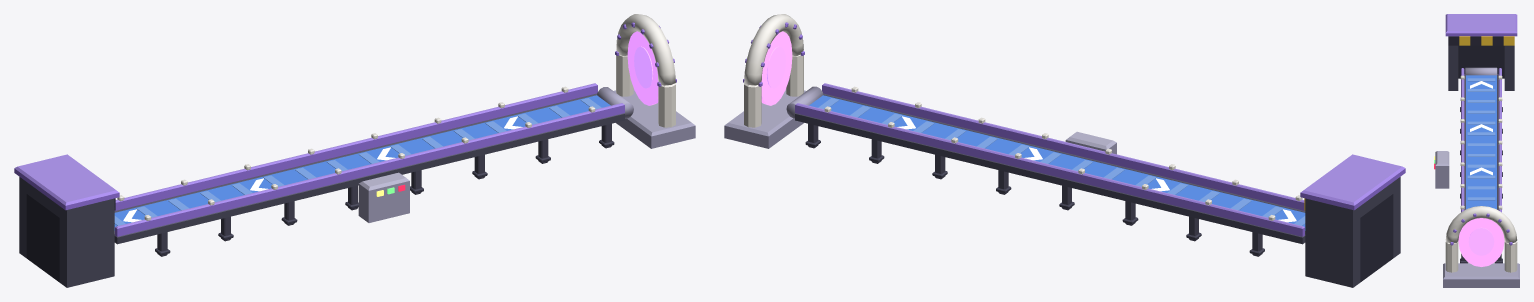
Rendered from Conveyor_5.glb.
The picture shows the model from 3 angles, left to right: view 1: azimuth 30°, elevation 25°; view 2: azimuth 150°, elevation 25°; view 3: azimuth 270°, elevation 25°; orthographic projection. The views are drawn at different scales.
Visible parts, largest first — view 1: Conveyor_5, Conveyor_5_Glow_portal, Conveyor_5_Glow_acc5, Conveyor_5_Glow_belt; view 2: Conveyor_5, Conveyor_5_Glow_portal, Conveyor_5_Glow_acc5, Conveyor_5_Glow_belt; view 3: Conveyor_5, Conveyor_5_Glow_portal, Conveyor_5_Glow_acc5, Conveyor_5_Glow_belt.
Part boxes in pixels (x1=…): Conveyor_5: x1=14, y1=14, x2=695, y2=287; Conveyor_5_Glow_portal: x1=627, y1=31, x2=658, y2=105; Conveyor_5_Glow_acc5: x1=634, y1=46, x2=653, y2=88; Conveyor_5_Glow_belt: x1=123, y1=116, x2=522, y2=222; Conveyor_5: x1=724, y1=14, x2=1405, y2=287; Conveyor_5_Glow_portal: x1=761, y1=31, x2=792, y2=105; Conveyor_5_Glow_acc5: x1=766, y1=46, x2=785, y2=88; Conveyor_5_Glow_belt: x1=897, y1=116, x2=1296, y2=222; Conveyor_5: x1=1435, y1=14, x2=1519, y2=287; Conveyor_5_Glow_portal: x1=1458, y1=218, x2=1504, y2=266; Conveyor_5_Glow_acc5: x1=1468, y1=227, x2=1494, y2=255; Conveyor_5_Glow_belt: x1=1470, y1=81, x2=1492, y2=175.
Size of the model in its own units: 79.2 by 13 by 13.4.
7 materials, 1 textured.
